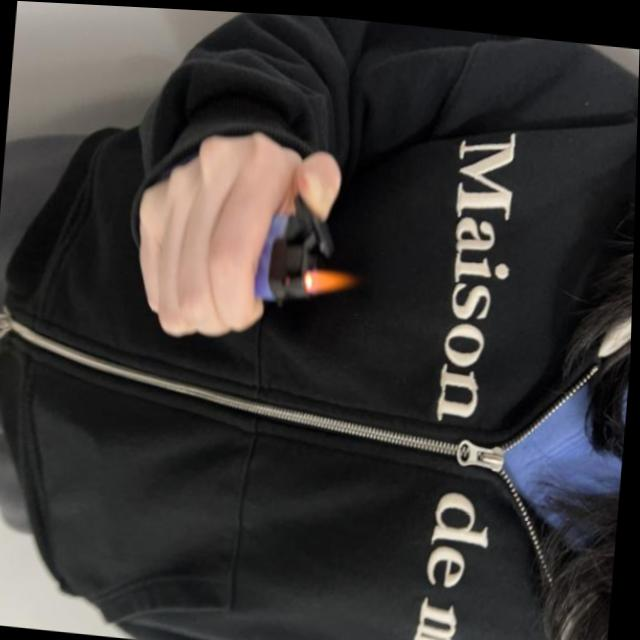Fire: (303, 263, 361, 296)
